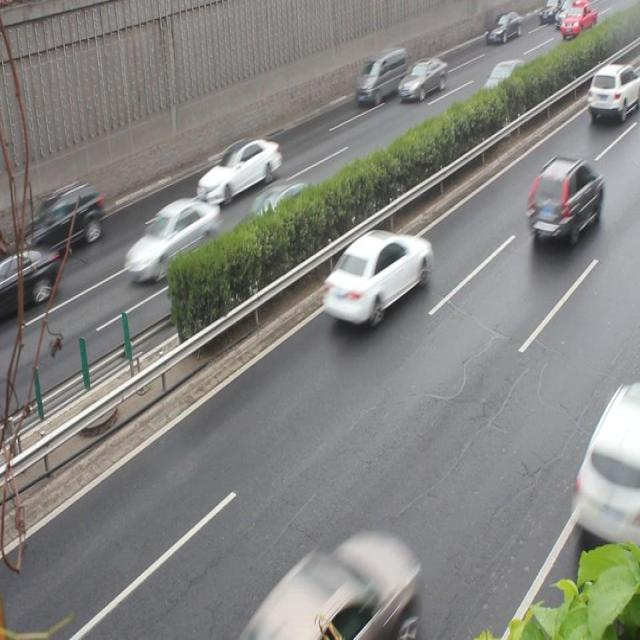car: (234, 528, 408, 640), (322, 231, 429, 326), (123, 199, 220, 279), (16, 178, 104, 256), (526, 158, 601, 245), (198, 136, 280, 208), (230, 185, 316, 251), (0, 244, 62, 314), (586, 65, 640, 125)
